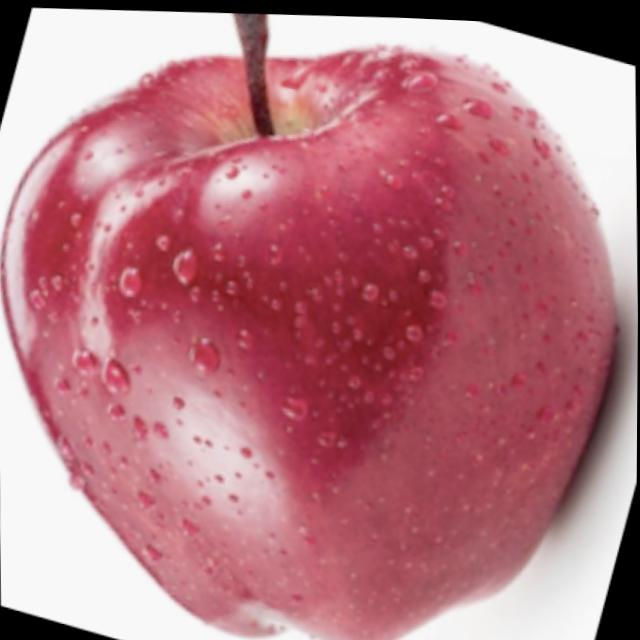organik: (0, 1, 616, 640)
